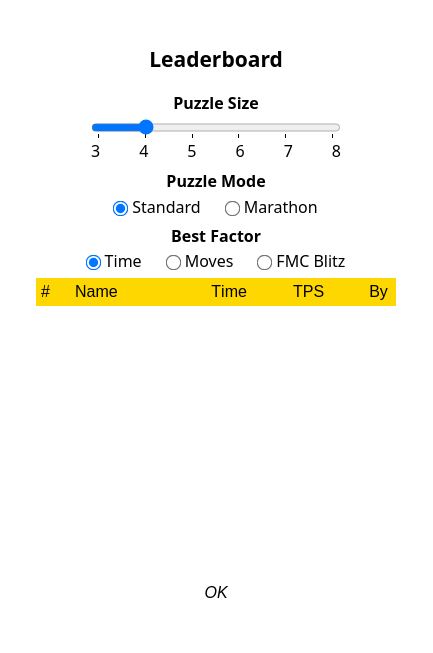
it: LeaderBoard › factorChoices / bestType resets › resets bestType away from fmc blitz when the size becomes ineligible
Click the text "FMC Blitz".
click(311, 261)  # box [276,249,345,273]
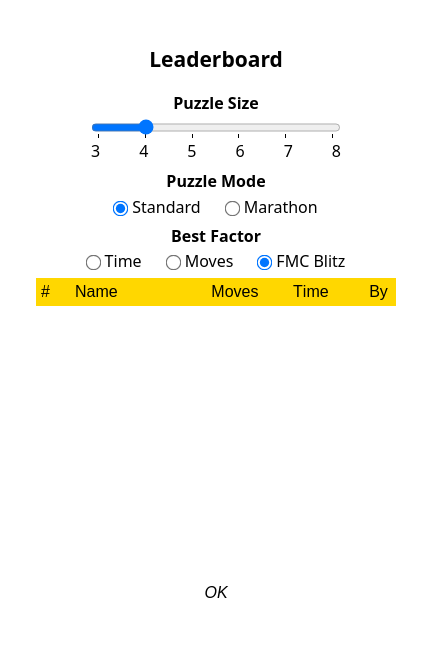
Click the text "6".
click(240, 151)  # box [236,138,245,164]
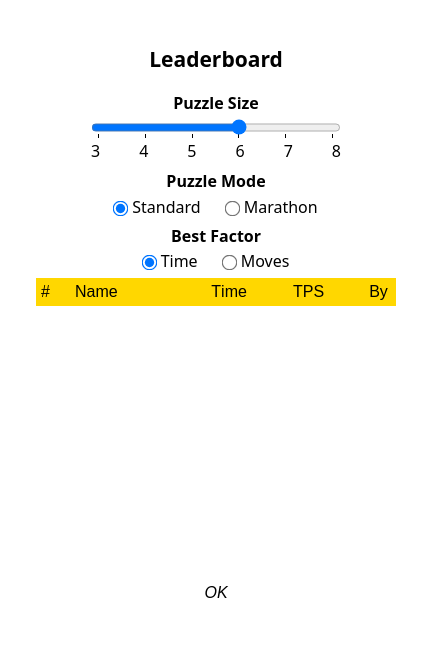
expect the column heading "Time" is shown: met, box [206,278,288,306]
